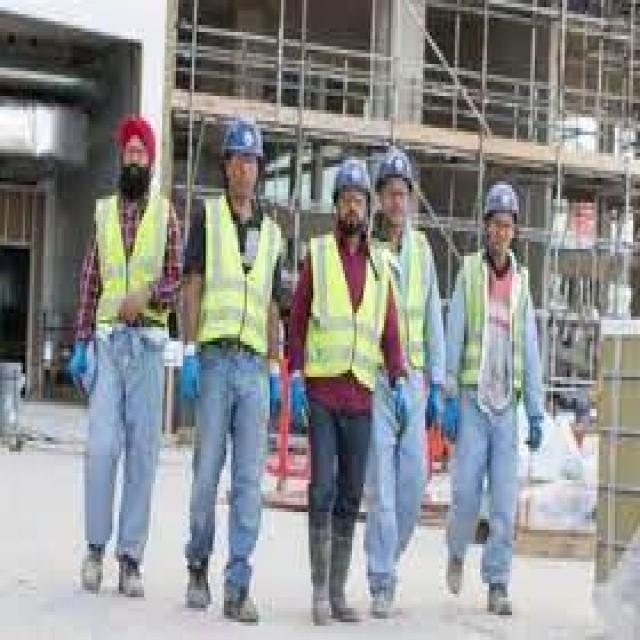Reflective-Jacket: (194, 195, 284, 362), (302, 231, 393, 395), (87, 188, 176, 342)
Safety-Helmet: (217, 110, 268, 164), (327, 153, 372, 199), (373, 142, 416, 188), (480, 174, 521, 220)
